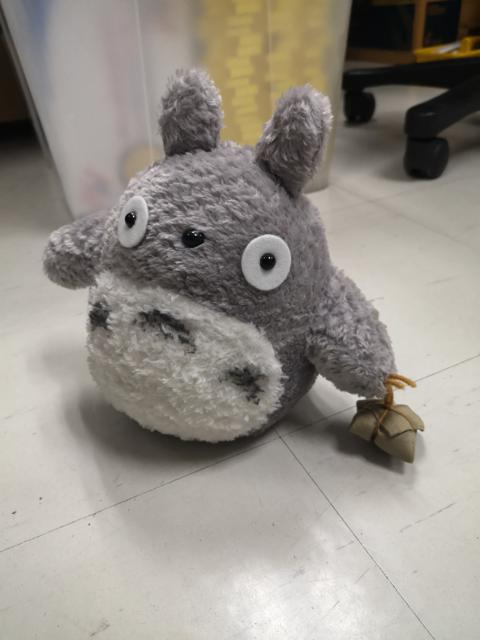totoro: (38, 62, 431, 473)
